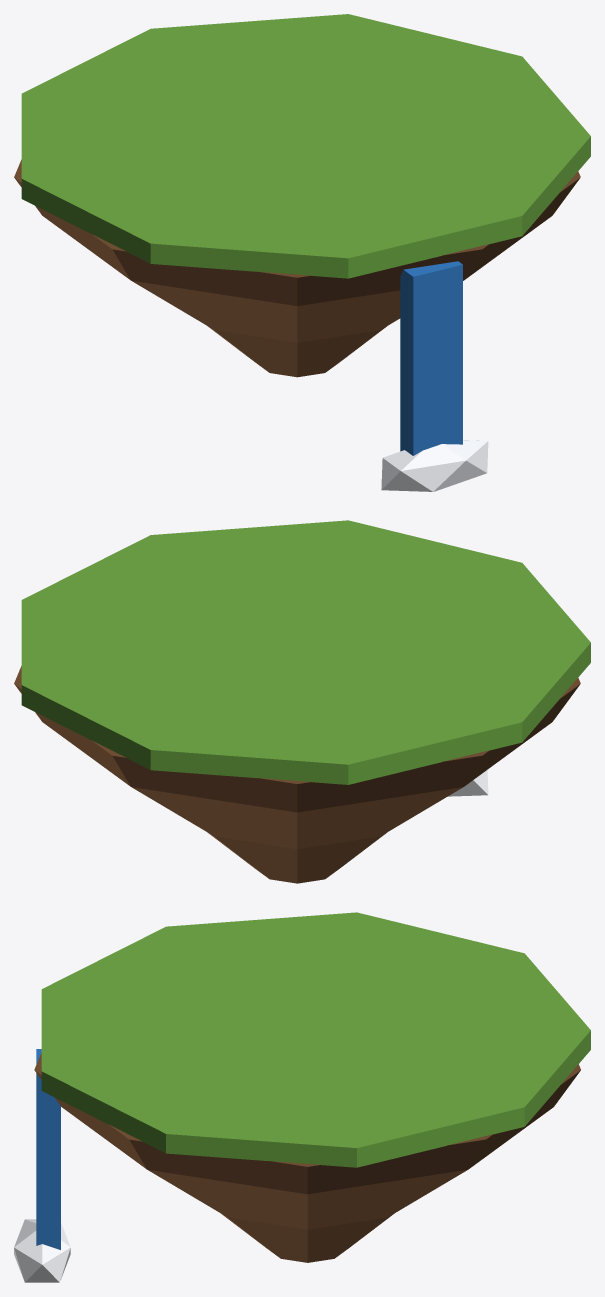
The model's file is sky_island_waterfall.glb.
3 views of the same model, one above another, from view 1: azimuth 30°, elevation 25°; view 2: azimuth 150°, elevation 25°; view 3: azimuth 270°, elevation 25° (orthographic). The views are drawn at different scales.
Parts seen in each view (by area): view 1: island_waterfall; view 2: island_waterfall; view 3: island_waterfall.
Part boxes in pixels (x1,y1,x2,y2): island_waterfall: (14,14,590,491); island_waterfall: (14,520,590,883); island_waterfall: (14,912,590,1282).
Size of the model in its own units: 9.04 by 4.39 by 9.35.
